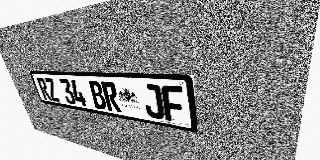3: (59, 79, 77, 105)
4: (69, 79, 88, 107)
B: (88, 81, 108, 110)
F: (161, 85, 186, 124)
J: (141, 84, 165, 120)
R: (101, 81, 122, 113), (36, 77, 52, 101)
Z: (44, 78, 60, 102)
